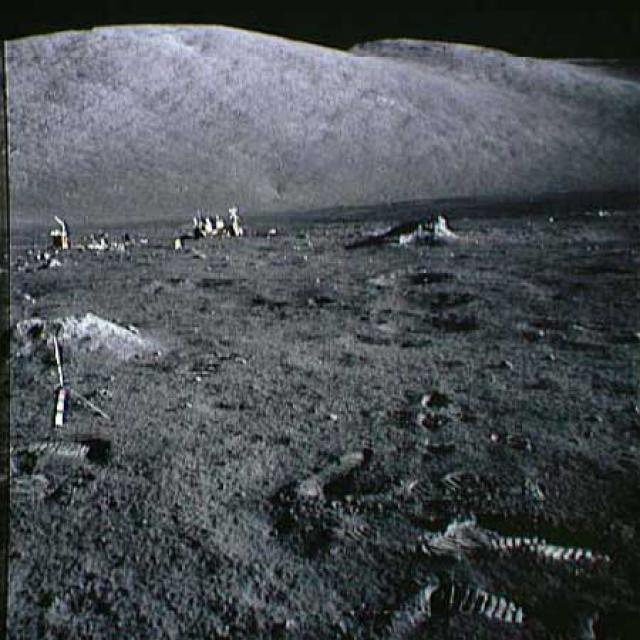artifact: (9, 204, 142, 264), (33, 335, 110, 427), (171, 201, 255, 243)
crater: (472, 216, 640, 247)
rock: (0, 308, 153, 370), (364, 216, 468, 255)
